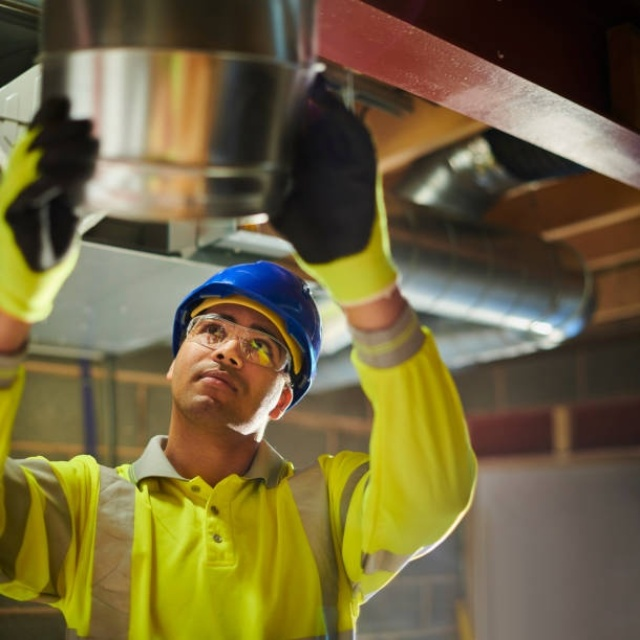Gafas: (184, 314, 293, 372)
Guantes: (265, 76, 386, 276), (0, 93, 101, 279)
Sin_mascara: (186, 362, 248, 405)
